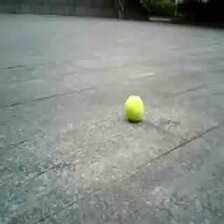tennis: (125, 95, 145, 120)
